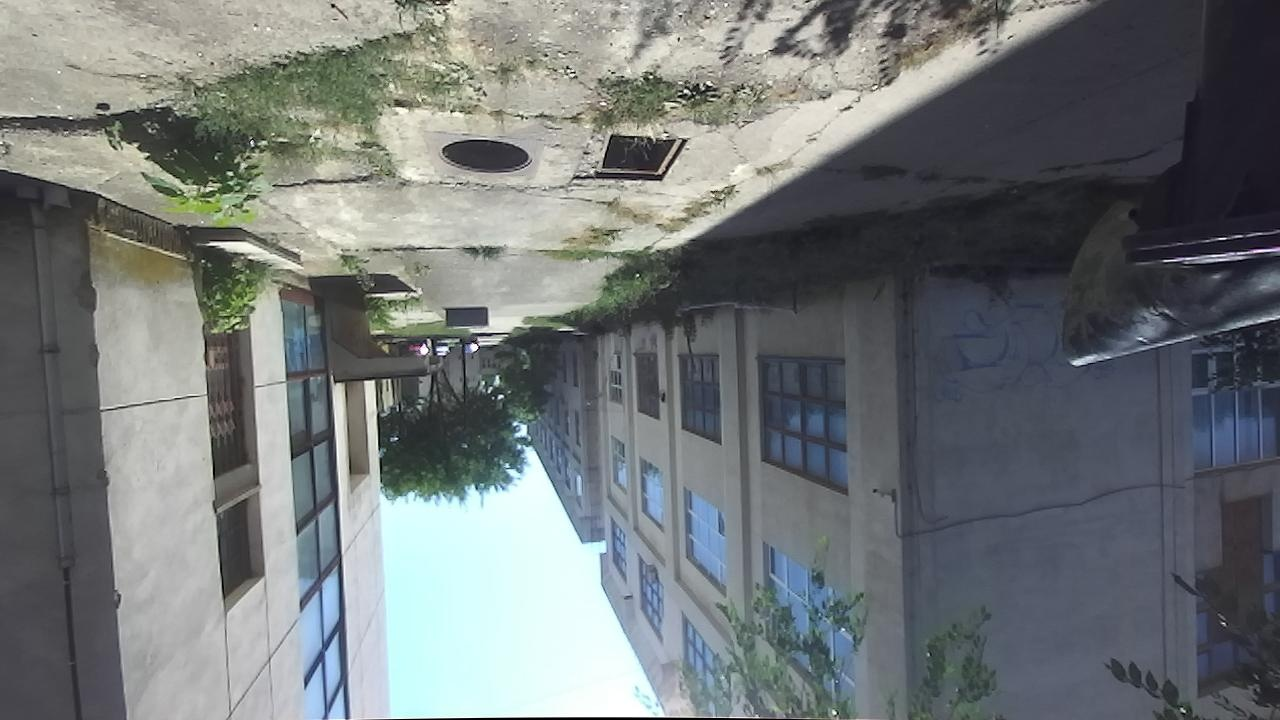drain: (590, 130, 694, 183), (432, 136, 538, 177)
